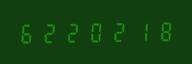eight: (149, 19, 170, 42)
one: (127, 19, 148, 43)
six: (17, 21, 38, 45)
two: (39, 20, 60, 44), (61, 20, 82, 44), (105, 19, 126, 43)
zero: (83, 20, 104, 43)
